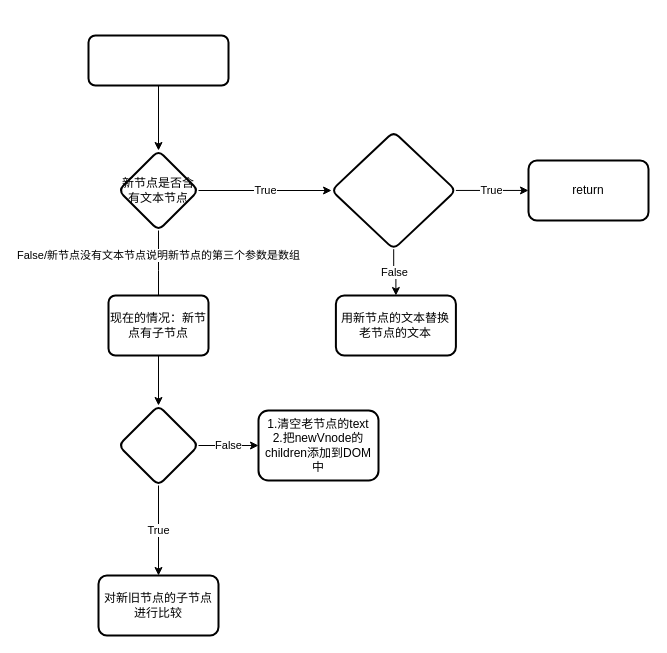
Image size: 667x653. Some labels were removed from this diagram. Here are the shapes that lost their labels. From the top down, the centre of each, then its label:
At point 158,60: "sel相同、key相同的新旧节点该如何做diff".
At point 393,190: "老节点的文本节点是否和新节点的一致".
At point 158,445: "老节点是否含有子节点".
